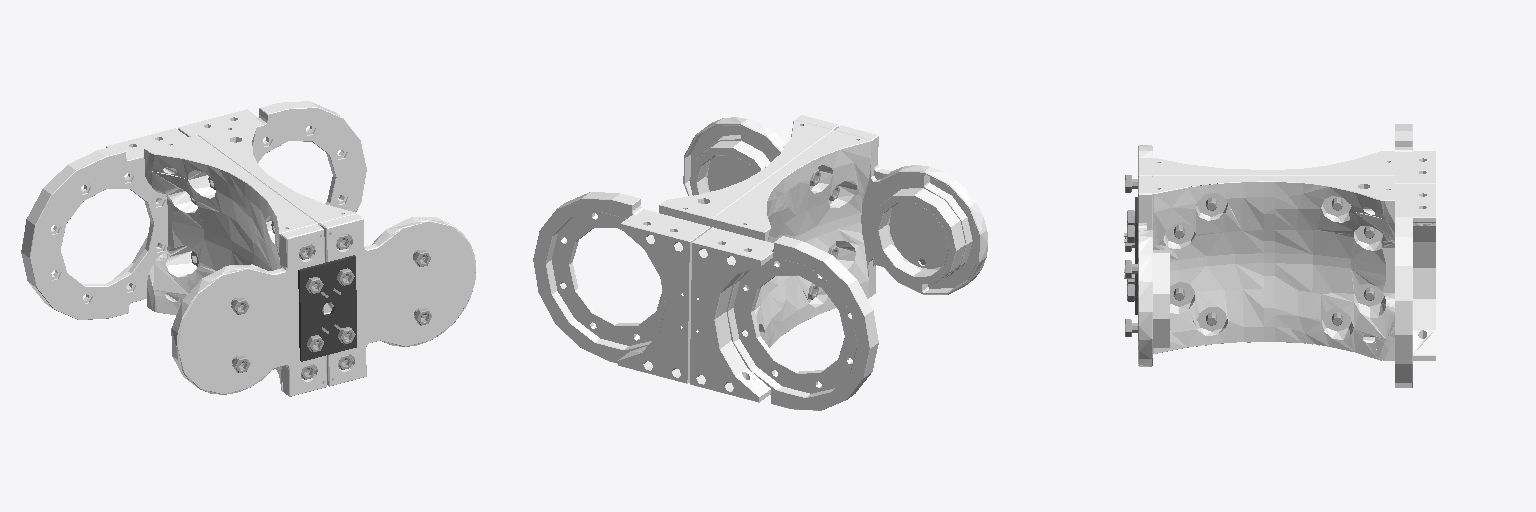
File: armanbindung.obj
3 views of the same model, side by side, from view 1: azimuth 30°, elevation 25°; view 2: azimuth 150°, elevation 25°; view 3: azimuth 270°, elevation 25° (orthographic).
Parts seen in each view (by area): view 1: armanbindung; view 2: armanbindung; view 3: armanbindung.
Part boxes in pixels (x1,y1,x2,y2): armanbindung: (21, 101, 475, 396); armanbindung: (533, 115, 987, 410); armanbindung: (1124, 124, 1435, 387).
Bounding box in the file's own units: 0.217 × 0.1021 × 0.174.